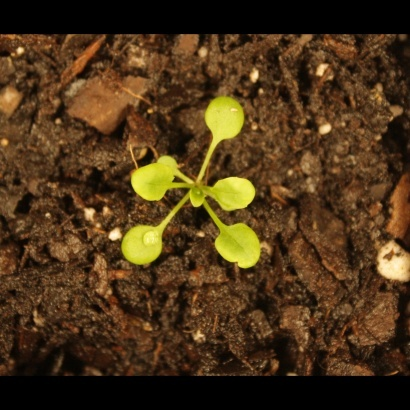leaf: (209, 165, 263, 218), (114, 221, 170, 271), (209, 221, 263, 272), (199, 87, 248, 143), (123, 162, 173, 205), (184, 183, 210, 213), (154, 153, 181, 178)
